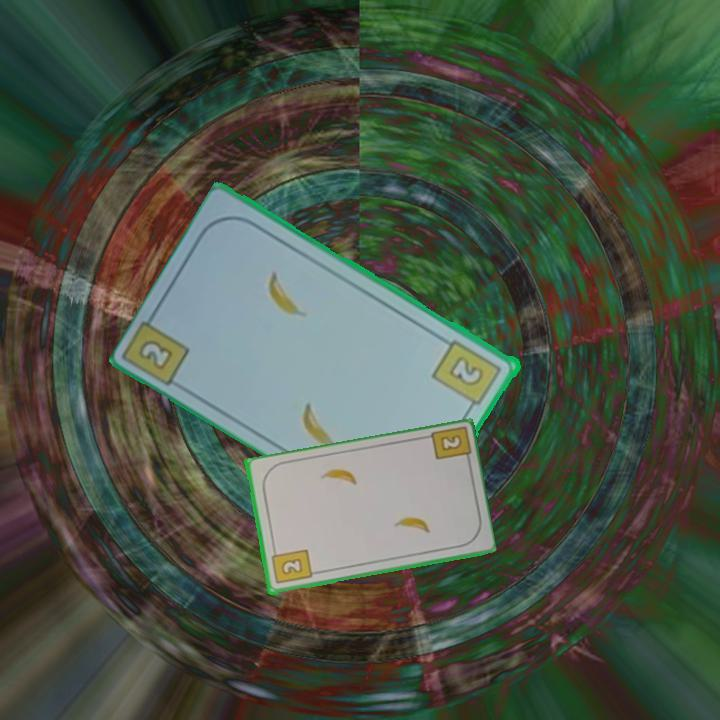2b: (429, 336, 506, 415), (268, 545, 314, 587), (135, 336, 177, 373), (437, 431, 464, 454)
